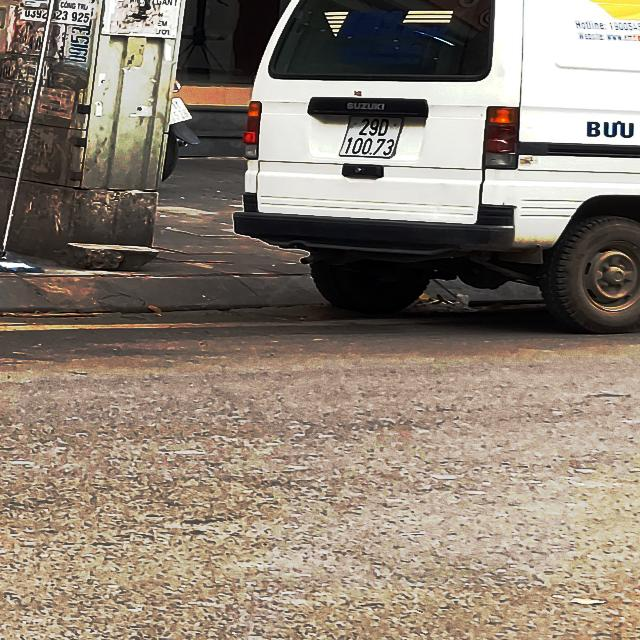license_plate: (341, 116, 407, 160)
